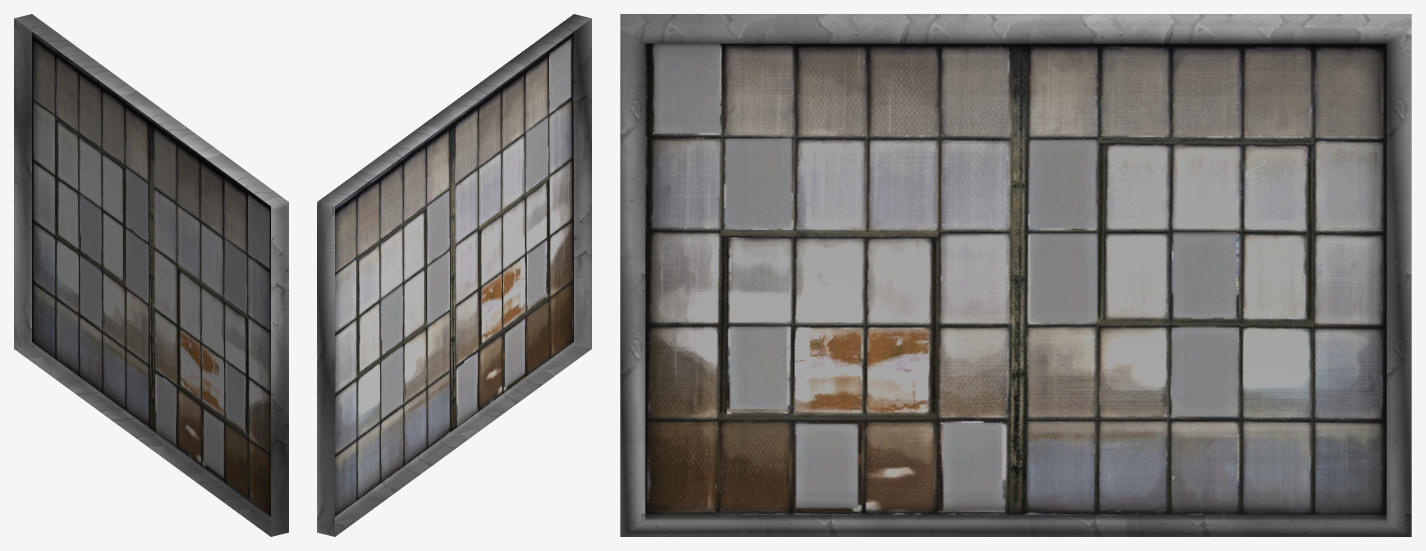
Rendered from window4.fbx.
The picture shows the model from 3 angles, left to right: view 1: azimuth 30°, elevation 25°; view 2: azimuth 150°, elevation 25°; view 3: azimuth 270°, elevation 25°; orthographic projection. The views are drawn at different scales.
Visible parts, largest first — view 1: Cube_003; view 2: Cube_003; view 3: Cube_003.
Part boxes in pixels (x1=…): Cube_003: x1=14, y1=14, x2=288, y2=536; Cube_003: x1=317, y1=14, x2=591, y2=536; Cube_003: x1=620, y1=14, x2=1411, y2=536.
Bounding box in the file's own units: 0.186 × 3.27 × 4.61.
